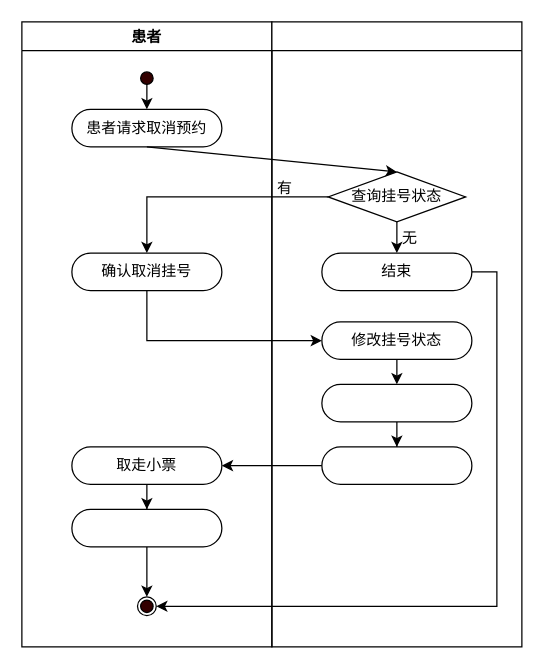
Image size: 544x669. Some labels were removed from this diagram. Here are the shapes that lost their labels. From the top down, the box of each, then its label:
(271, 21, 522, 647): 挂号机
(321, 383, 472, 422): 退款
(321, 446, 472, 484): 打印小票
(71, 508, 222, 547): 取消完成
